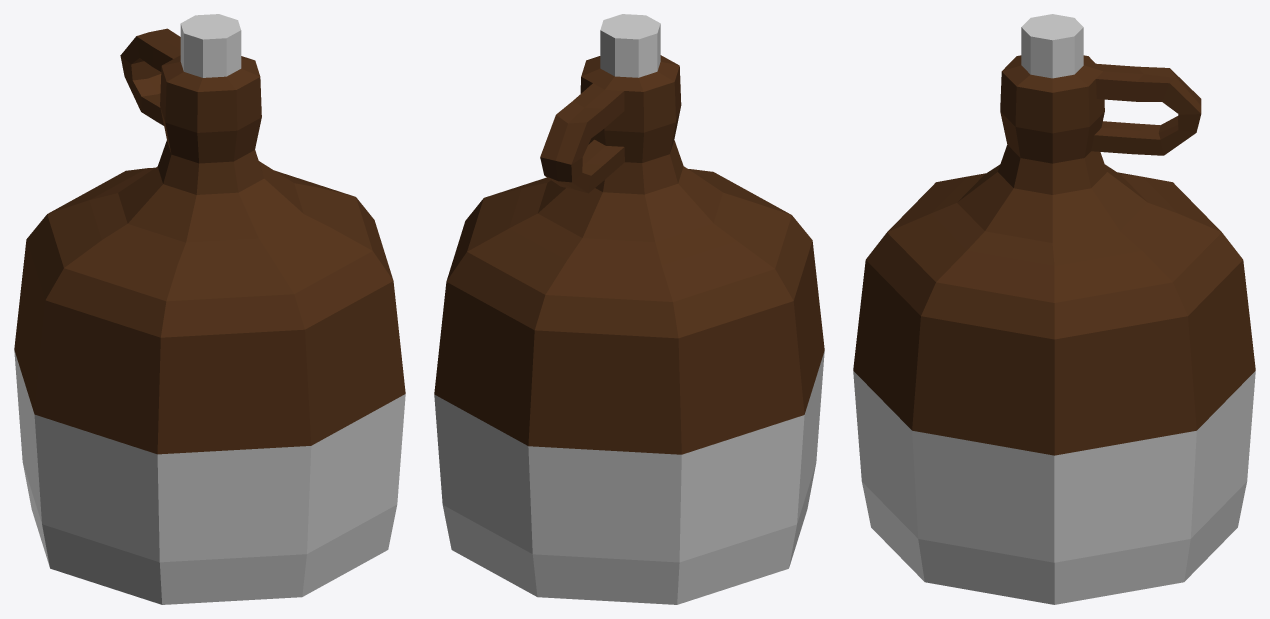
The model's file is Bottle02.fbx.
3 renders of one model, left to right at view 1: azimuth 30°, elevation 25°; view 2: azimuth 150°, elevation 25°; view 3: azimuth 270°, elevation 25°, orthographic.
Visible parts, largest first — view 1: Circle; view 2: Circle; view 3: Circle.
Part boxes in pixels (<box>): Circle: <box>14,14,405,604</box>; Circle: <box>434,14,824,604</box>; Circle: <box>853,14,1255,604</box>.
Bounding box in the file's own units: 0.6586 × 0.9031 × 0.6586.
